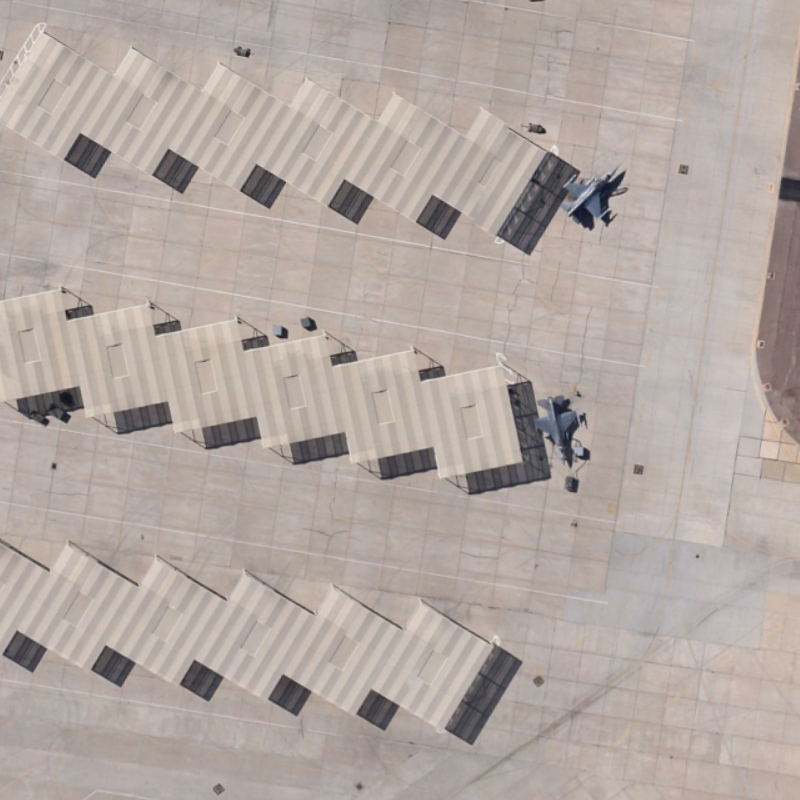A5: (558, 161, 623, 232), (530, 391, 585, 471)
